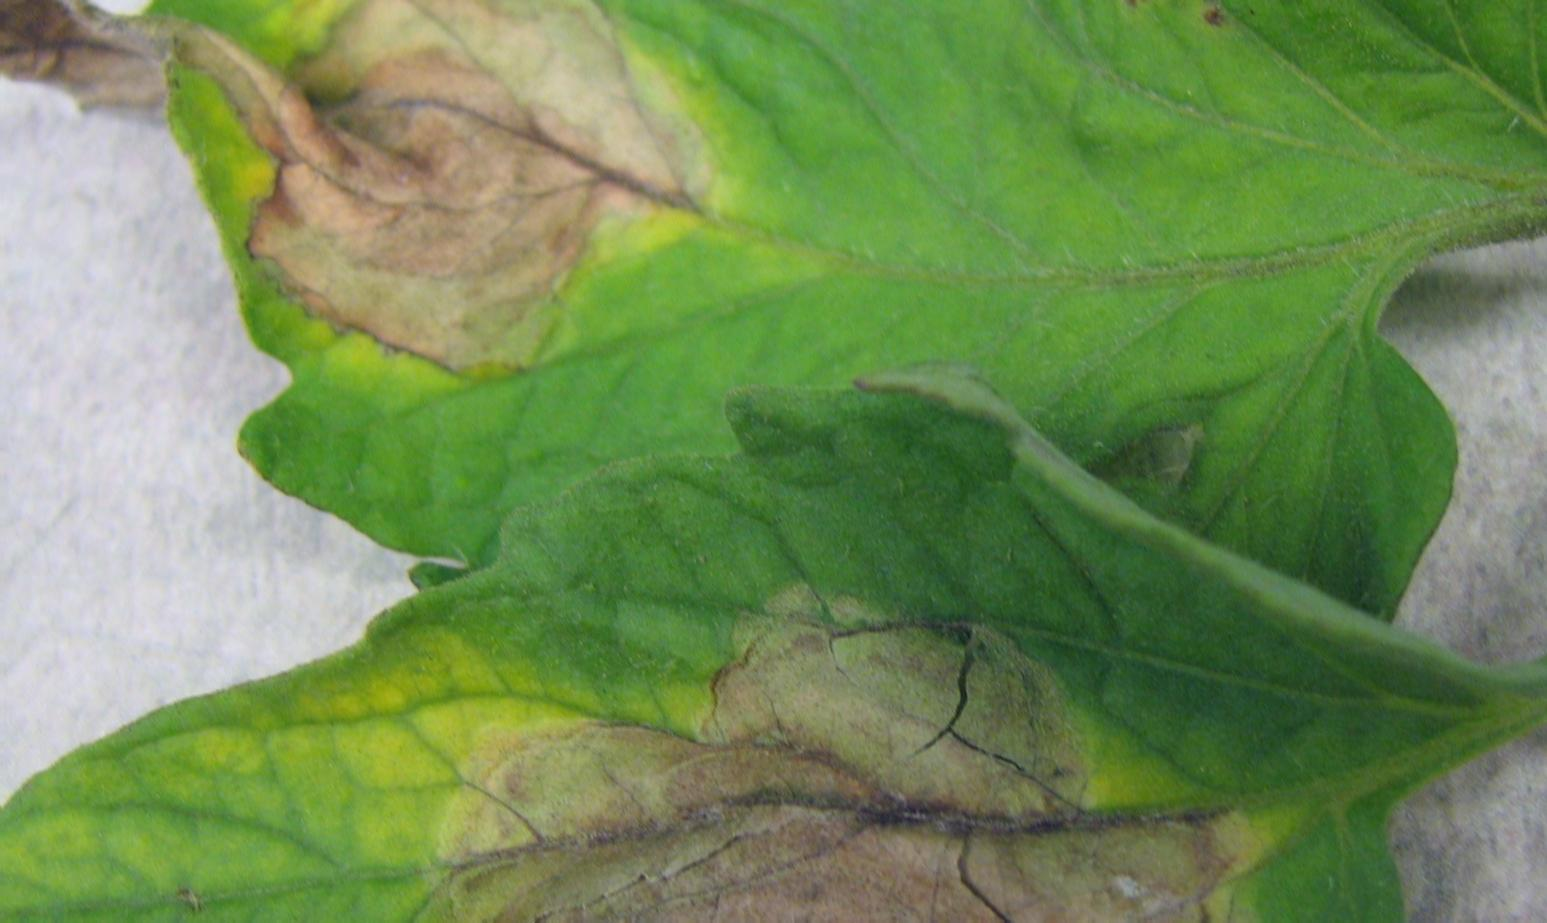Tomato leaf late blight: (0, 387, 1524, 923), (0, 0, 1547, 505)
